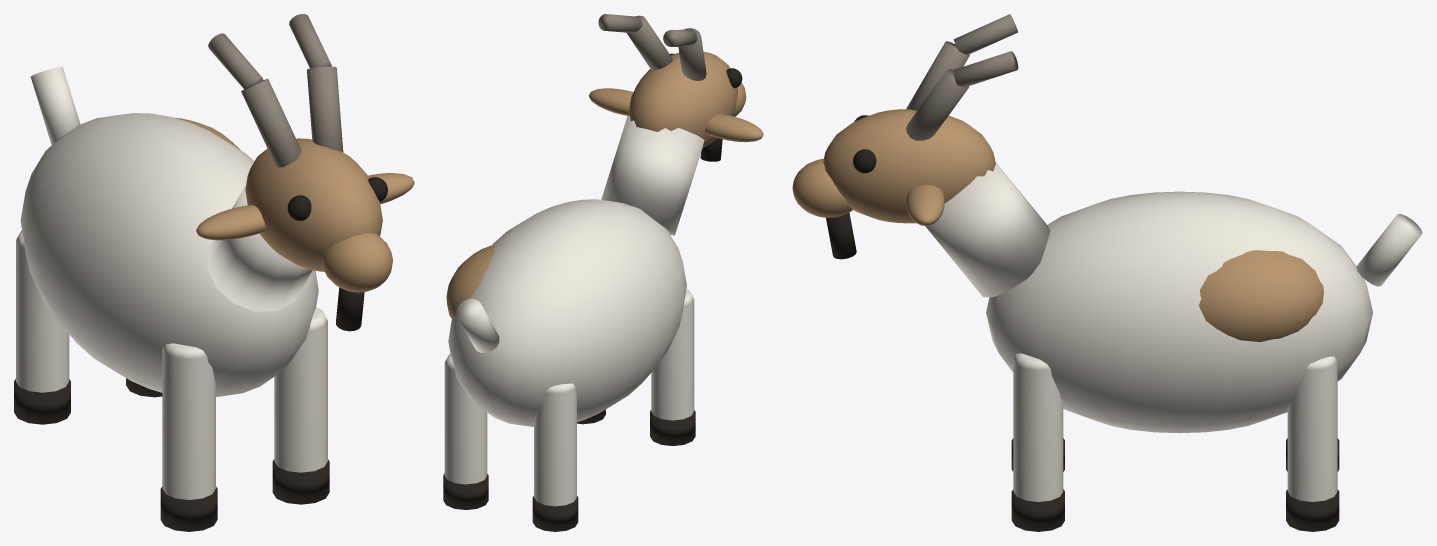
The model's file is goat-high.glb.
The picture shows the model from 3 angles, left to right: view 1: azimuth 30°, elevation 25°; view 2: azimuth 150°, elevation 25°; view 3: azimuth 270°, elevation 25°; orthographic projection. The views are drawn at different scales.
Parts seen in each view (by area): view 1: body; view 2: body; view 3: body.
Boxes of the visible parts, x1,y1,x2,y2 form: body: (14, 14, 414, 531); body: (443, 14, 763, 531); body: (792, 14, 1422, 531).
Size of the model in its own units: 0.58 by 1.26 by 1.56.
